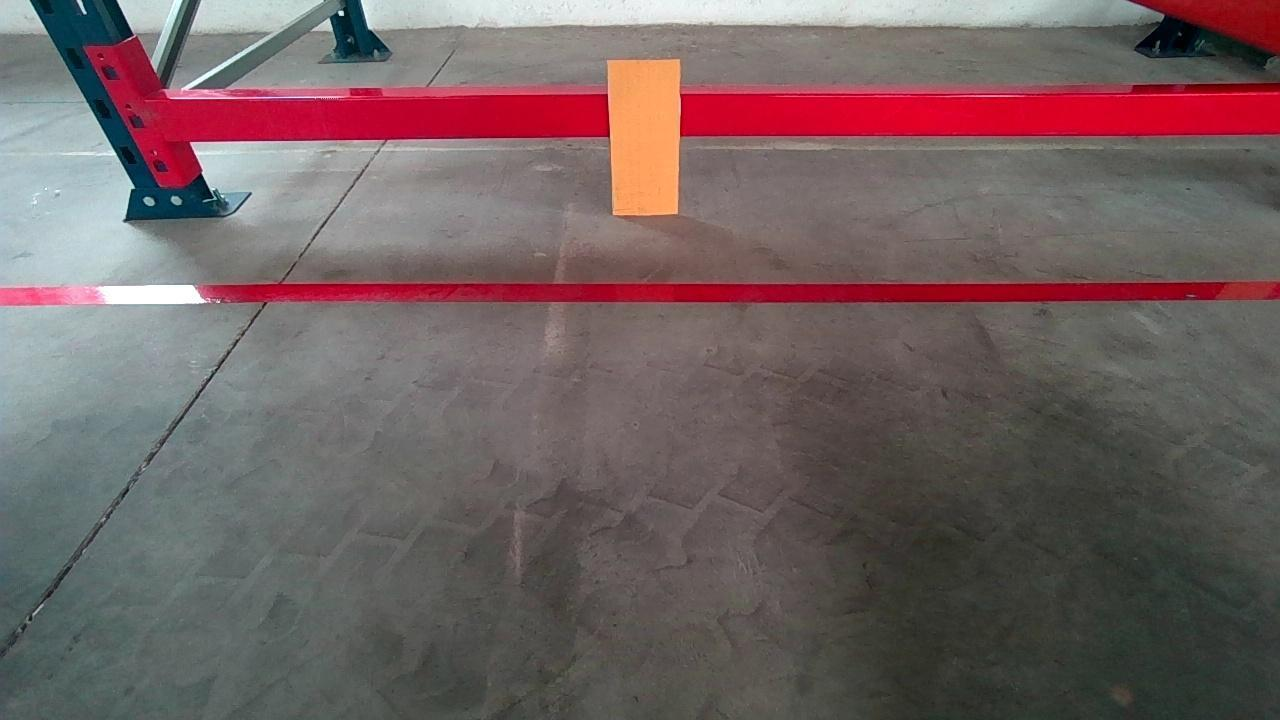h_rack: (159, 87, 1273, 141)
orange_strip: (609, 61, 681, 217)
red_line: (0, 283, 1280, 304)
